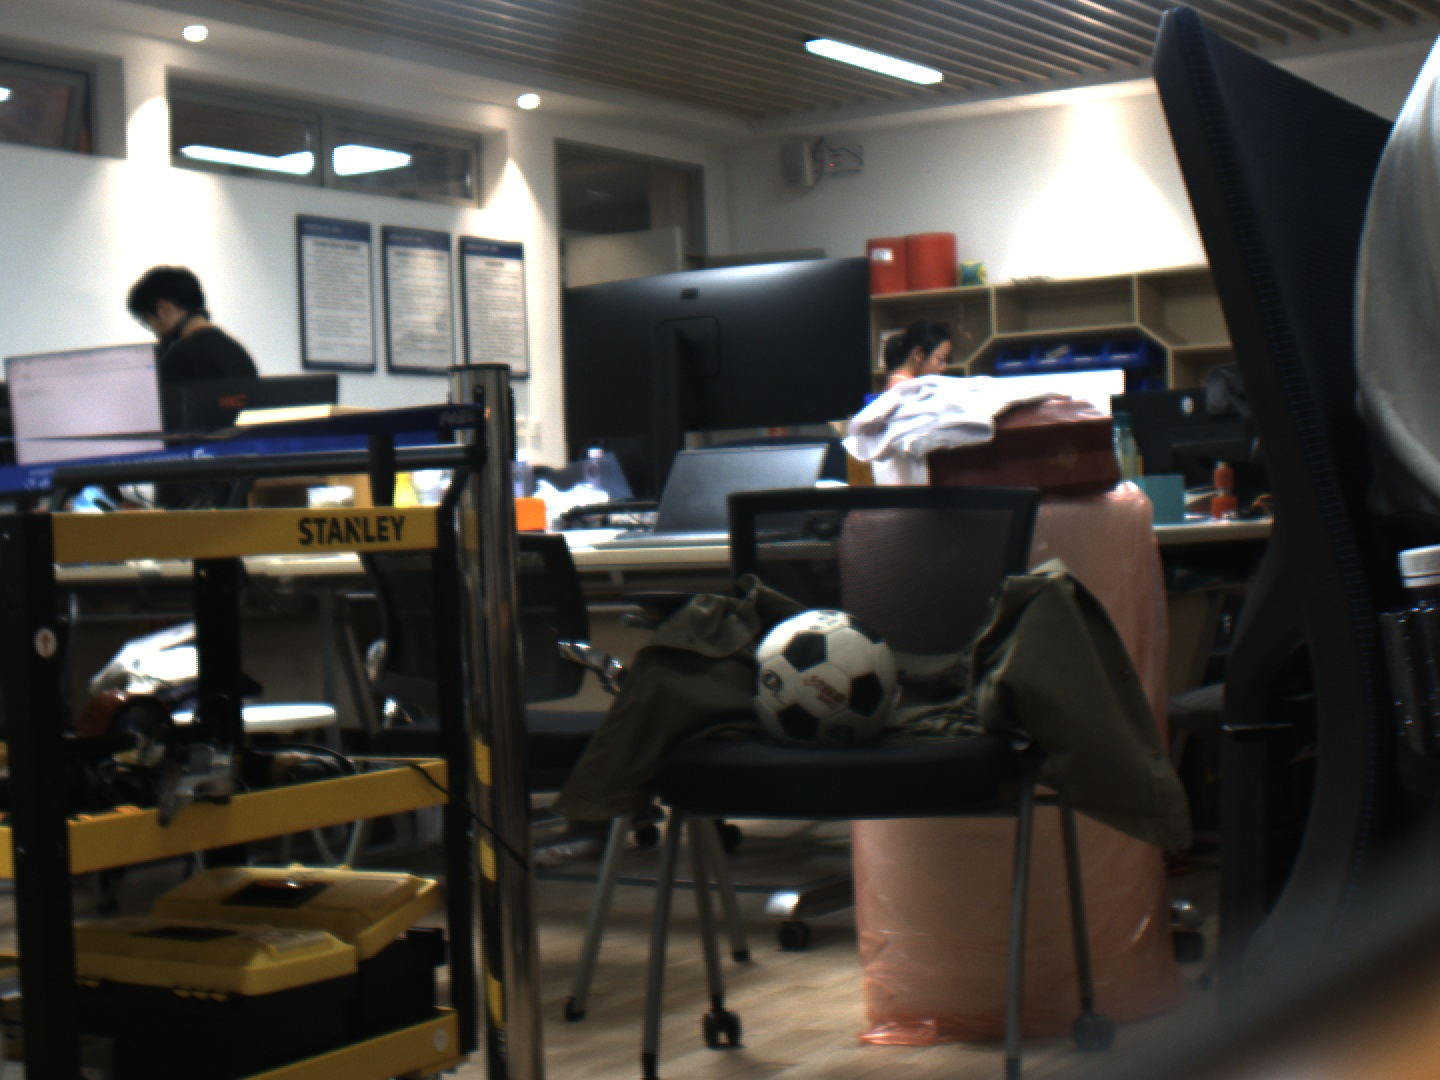ball: (742, 597, 932, 752)
